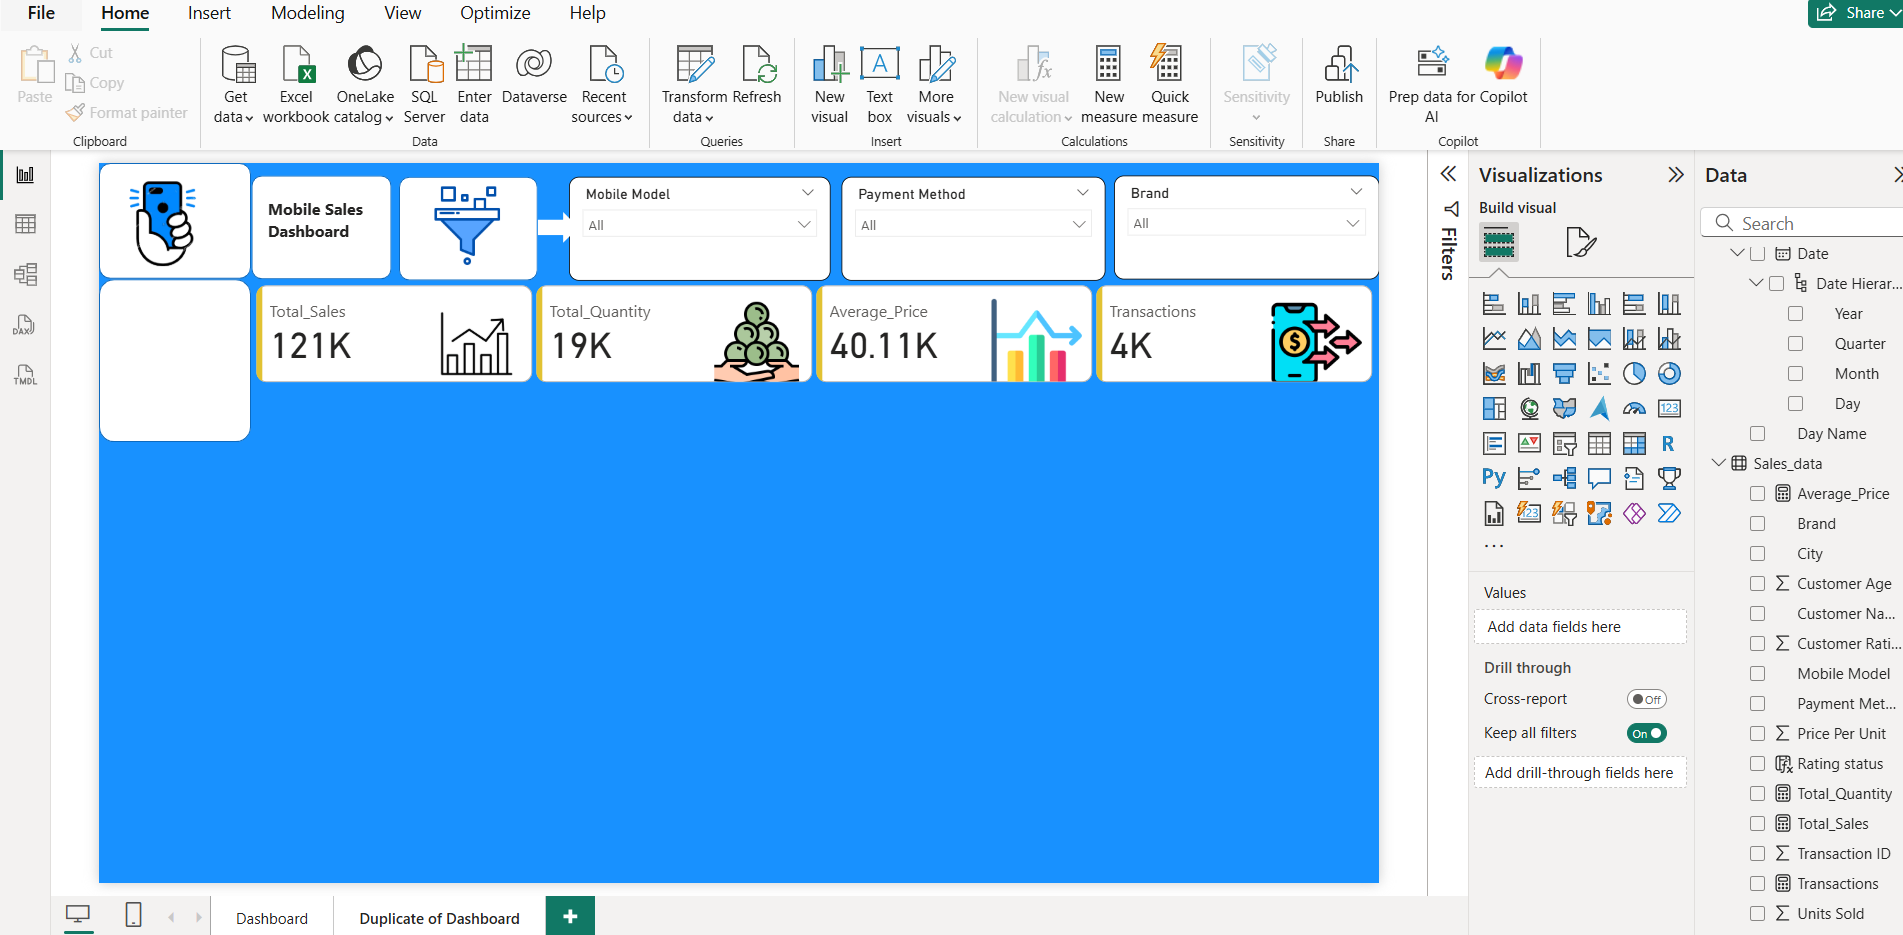

The dashboard page shown, as its layout file describes it:
{"tool":"powerbi","page":{"name":"Dashboard","canvas":[1280,720],"ordinal":0},"visuals":[{"type":"shape","box":[0,0,142.4,108.6],"z":0},{"type":"image","box":[0,0,127.9,127.9],"z":1000},{"type":"shape","box":[0,115.8,152,162.9],"z":2000},{"type":"shape","box":[0,278.7,152,441.6],"z":3000},{"type":"advancedSlicerVisual","fields":{"Values":["Custom_Calendar.Date.Variation.Date Hierarchy.Month"]},"box":[1.2,278.7,150.8,441.6],"z":4000},{"type":"cardVisual","fields":{"Data":["Sales_data.Total_Sales","Sales_data.Total_Quantity","Sales_data.Average_Price","Sales_data.Transactions"]},"box":[152,117,1128,107.4],"z":5000},{"type":"slicer","fields":{"Values":["Sales_data.Mobile Model"]},"box":[459.7,1.2,241.3,107.4],"z":6000},{"type":"slicer","fields":{"Values":["Sales_data.Payment Method"]},"box":[716.6,4.8,264.2,103.8],"z":7000},{"type":"slicer","fields":{"Values":["Sales_data.Brand"]},"box":[996.5,8.4,270.2,100.1],"z":8000},{"type":"shape","box":[300.4,0,138.7,108.6],"z":9000},{"type":"image","box":[278.7,8.4,182.2,90.5],"z":10000},{"type":"shape","box":[419.8,49.5,41,31.4],"z":11000},{"type":"shape","box":[152,0,139.9,108.6],"z":12000},{"type":"textbox","box":[164.1,30.2,117,68.8],"z":13000},{"type":"map","fields":{"Category":["Sales_data.City"],"Size":["Sales_data.Total_Sales"]},"box":[164.1,224.4,255.8,250.9],"z":14000},{"type":"lineChart","fields":{"Category":["Custom_Calendar.Date.Variation.Date Hierarchy.Month"],"Y":["Sales_data.Total_Quantity"]},"box":[438.8,225,827.5,150],"z":15000},{"type":"funnel","title":" Ratings by Rating status","fields":{"Y":["Sum(Sales_data.Customer Ratings)"],"Category":["Sales_data.Rating status"]},"box":[440.4,388.5,381.2,126.7],"z":16000},{"type":"pieChart","title":" Transaction ID by Payment Method","fields":{"Y":["CountNonNull(Sales_data.Transaction ID)"],"Category":["Sales_data.Payment Method"]},"box":[834.9,389.7,431.9,126.7],"z":17000},{"type":"clusteredBarChart","fields":{"Y":["Sales_data.Total_Sales"],"Category":["Sales_data.Mobile Model"]},"box":[440.4,532,381.2,174.9],"z":18000},{"type":"areaChart","fields":{"Category":["Sales_data.Mobile Model","Custom_Calendar.Day Name"],"Y":["Sales_data.Total_Sales"]},"box":[834.9,532,431.9,170.1],"z":19000},{"type":"tableEx","fields":{"Values":["Sales_data.Brand","Sales_data.Total_Sales","Sales_data.Transactions"]},"box":[164.1,485,255.8,235.3],"z":20000},{"type":"pageNavigator","box":[6,142.4,136.3,119.4],"z":21000}]}

Visuals, with their boxes on the page's 1280x720 design canvas (x1, y1, x2, y2). These are canvas units, not pixel positions in the 1903x935 screenshot, which may show the page scaled, cropped or inside an application window:
shape: [x1=0, y1=0, x2=142, y2=109]
image: [x1=0, y1=0, x2=128, y2=128]
shape: [x1=0, y1=116, x2=152, y2=279]
shape: [x1=0, y1=279, x2=152, y2=720]
advancedSlicerVisual - Custom_Calendar.Date.Variation.Date Hierarchy.Month: [x1=1, y1=279, x2=152, y2=720]
cardVisual - Sales_data.Total_Sales x Sales_data.Total_Quantity: [x1=152, y1=117, x2=1280, y2=224]
slicer - Sales_data.Mobile Model: [x1=460, y1=1, x2=701, y2=109]
slicer - Sales_data.Payment Method: [x1=717, y1=5, x2=981, y2=109]
slicer - Sales_data.Brand: [x1=996, y1=8, x2=1267, y2=108]
shape: [x1=300, y1=0, x2=439, y2=109]
image: [x1=279, y1=8, x2=461, y2=99]
shape: [x1=420, y1=50, x2=461, y2=81]
shape: [x1=152, y1=0, x2=292, y2=109]
textbox: [x1=164, y1=30, x2=281, y2=99]
map - Sales_data.City x Sales_data.Total_Sales: [x1=164, y1=224, x2=420, y2=475]
lineChart - Custom_Calendar.Date.Variation.Date Hierarchy.Month x Sales_data.Total_Quantity: [x1=439, y1=225, x2=1266, y2=375]
" Ratings by Rating status" funnel: [x1=440, y1=388, x2=822, y2=515]
" Transaction ID by Payment Method" pieChart: [x1=835, y1=390, x2=1267, y2=516]
clusteredBarChart - Sales_data.Total_Sales x Sales_data.Mobile Model: [x1=440, y1=532, x2=822, y2=707]
areaChart - Sales_data.Mobile Model x Custom_Calendar.Day Name: [x1=835, y1=532, x2=1267, y2=702]
tableEx - Sales_data.Brand x Sales_data.Total_Sales: [x1=164, y1=485, x2=420, y2=720]
pageNavigator: [x1=6, y1=142, x2=142, y2=262]
